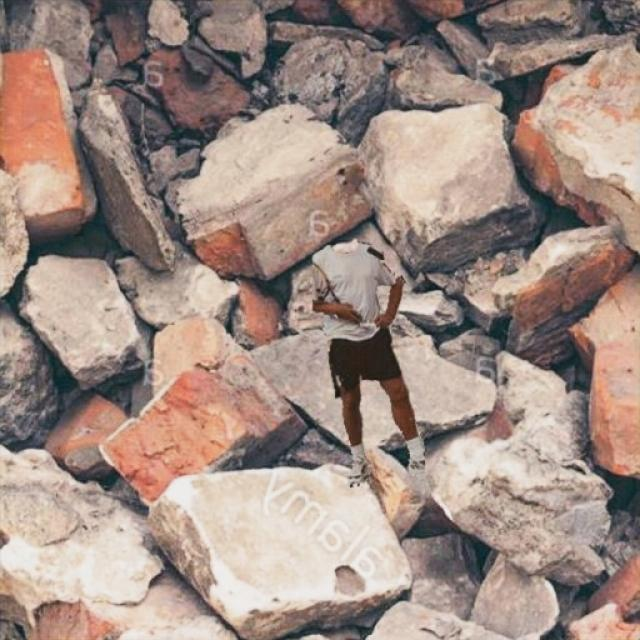Person in Rubble: (312, 242, 423, 488)
